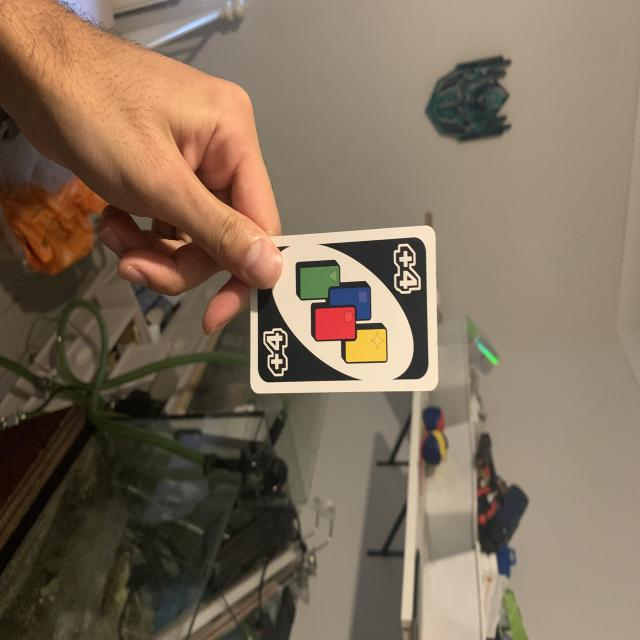lcolor-400: (257, 324, 301, 384)
